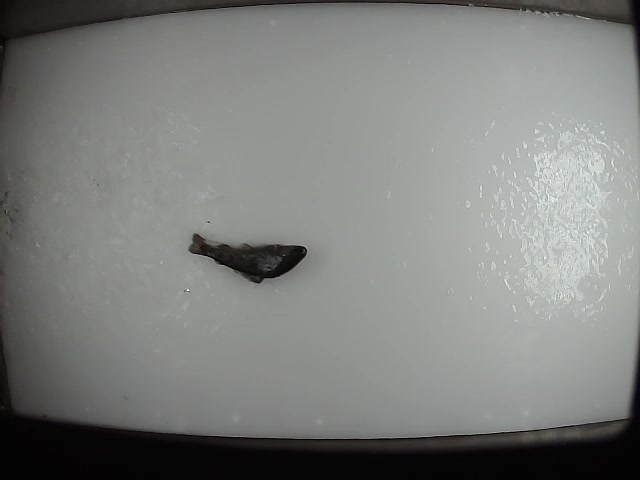fish: (188, 230, 309, 287)
